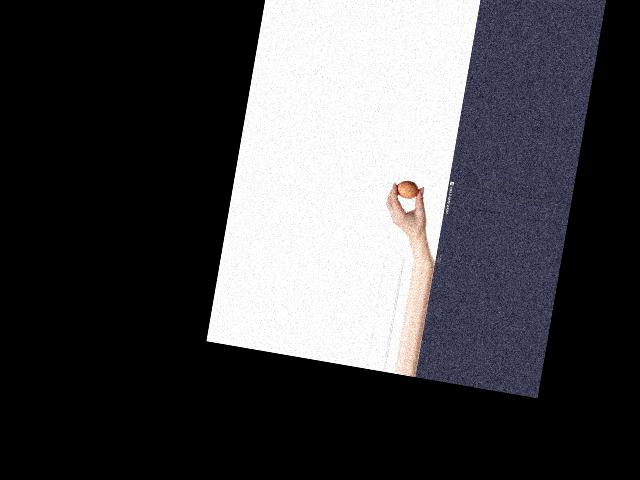egg: (395, 179, 420, 201)
